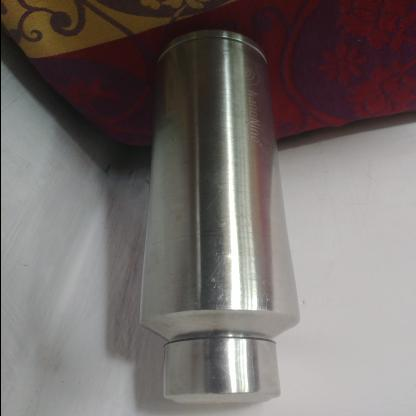bottle: (11, 204, 416, 332)
